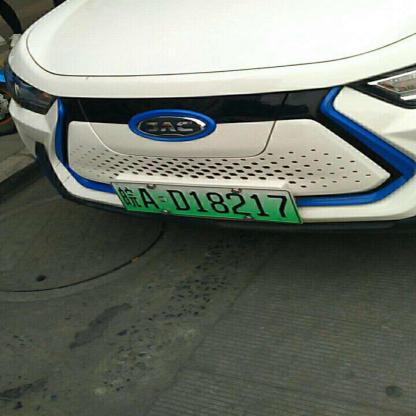lp: (111, 181, 300, 221)
